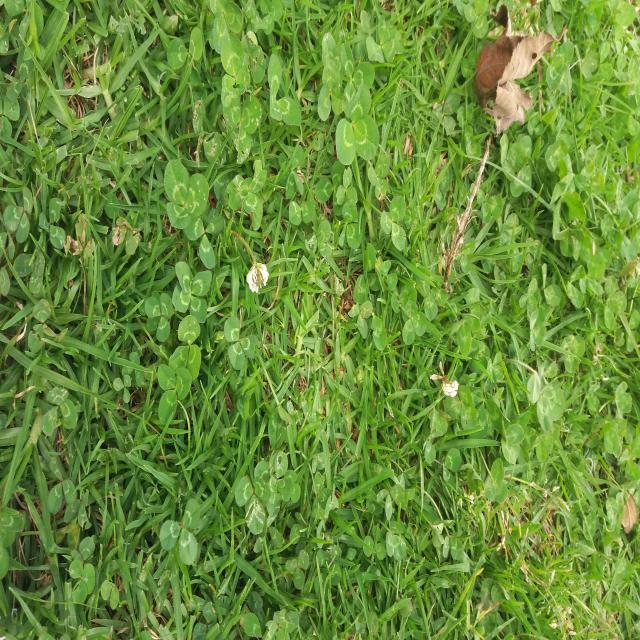Four Leaf Clover: (172, 262, 212, 323)
